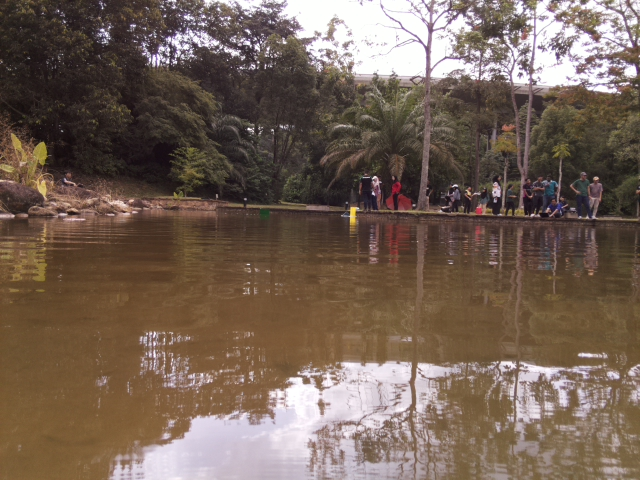obstacle: (258, 208, 270, 217)
